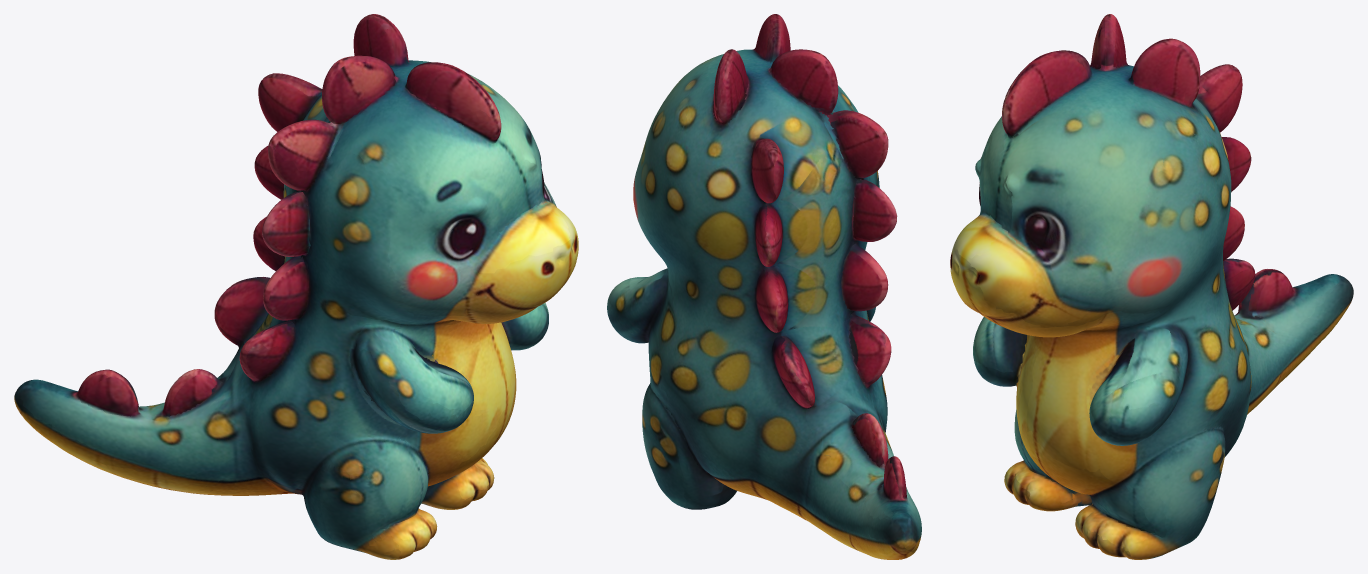
File: dinosaur_hunyuan.glb
3 renders of one model, left to right at view 1: azimuth 30°, elevation 25°; view 2: azimuth 150°, elevation 25°; view 3: azimuth 270°, elevation 25°, orthographic. The views are drawn at different scales.
Visible parts, largest first — view 1: tmpoftn1eal.ply; view 2: tmpoftn1eal.ply; view 3: tmpoftn1eal.ply.
Boxes of the visible parts, x1,y1,x2,y2 form: tmpoftn1eal.ply: [14, 14, 578, 559]; tmpoftn1eal.ply: [607, 14, 921, 559]; tmpoftn1eal.ply: [950, 14, 1353, 559].
Size of the model in its own units: 1.83 by 1.99 by 1.5.
Materials: 1 (1 with a texture image).
